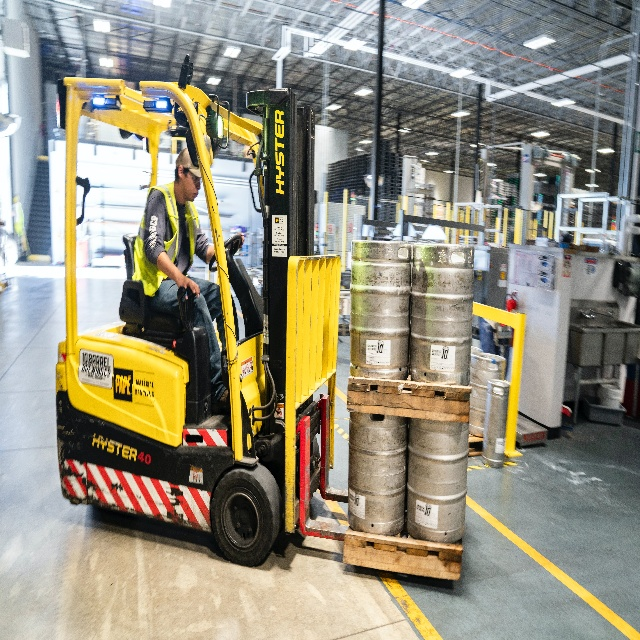Gafas: (190, 171, 202, 185)
Sin_guantes: (178, 273, 200, 301), (239, 231, 245, 250)
